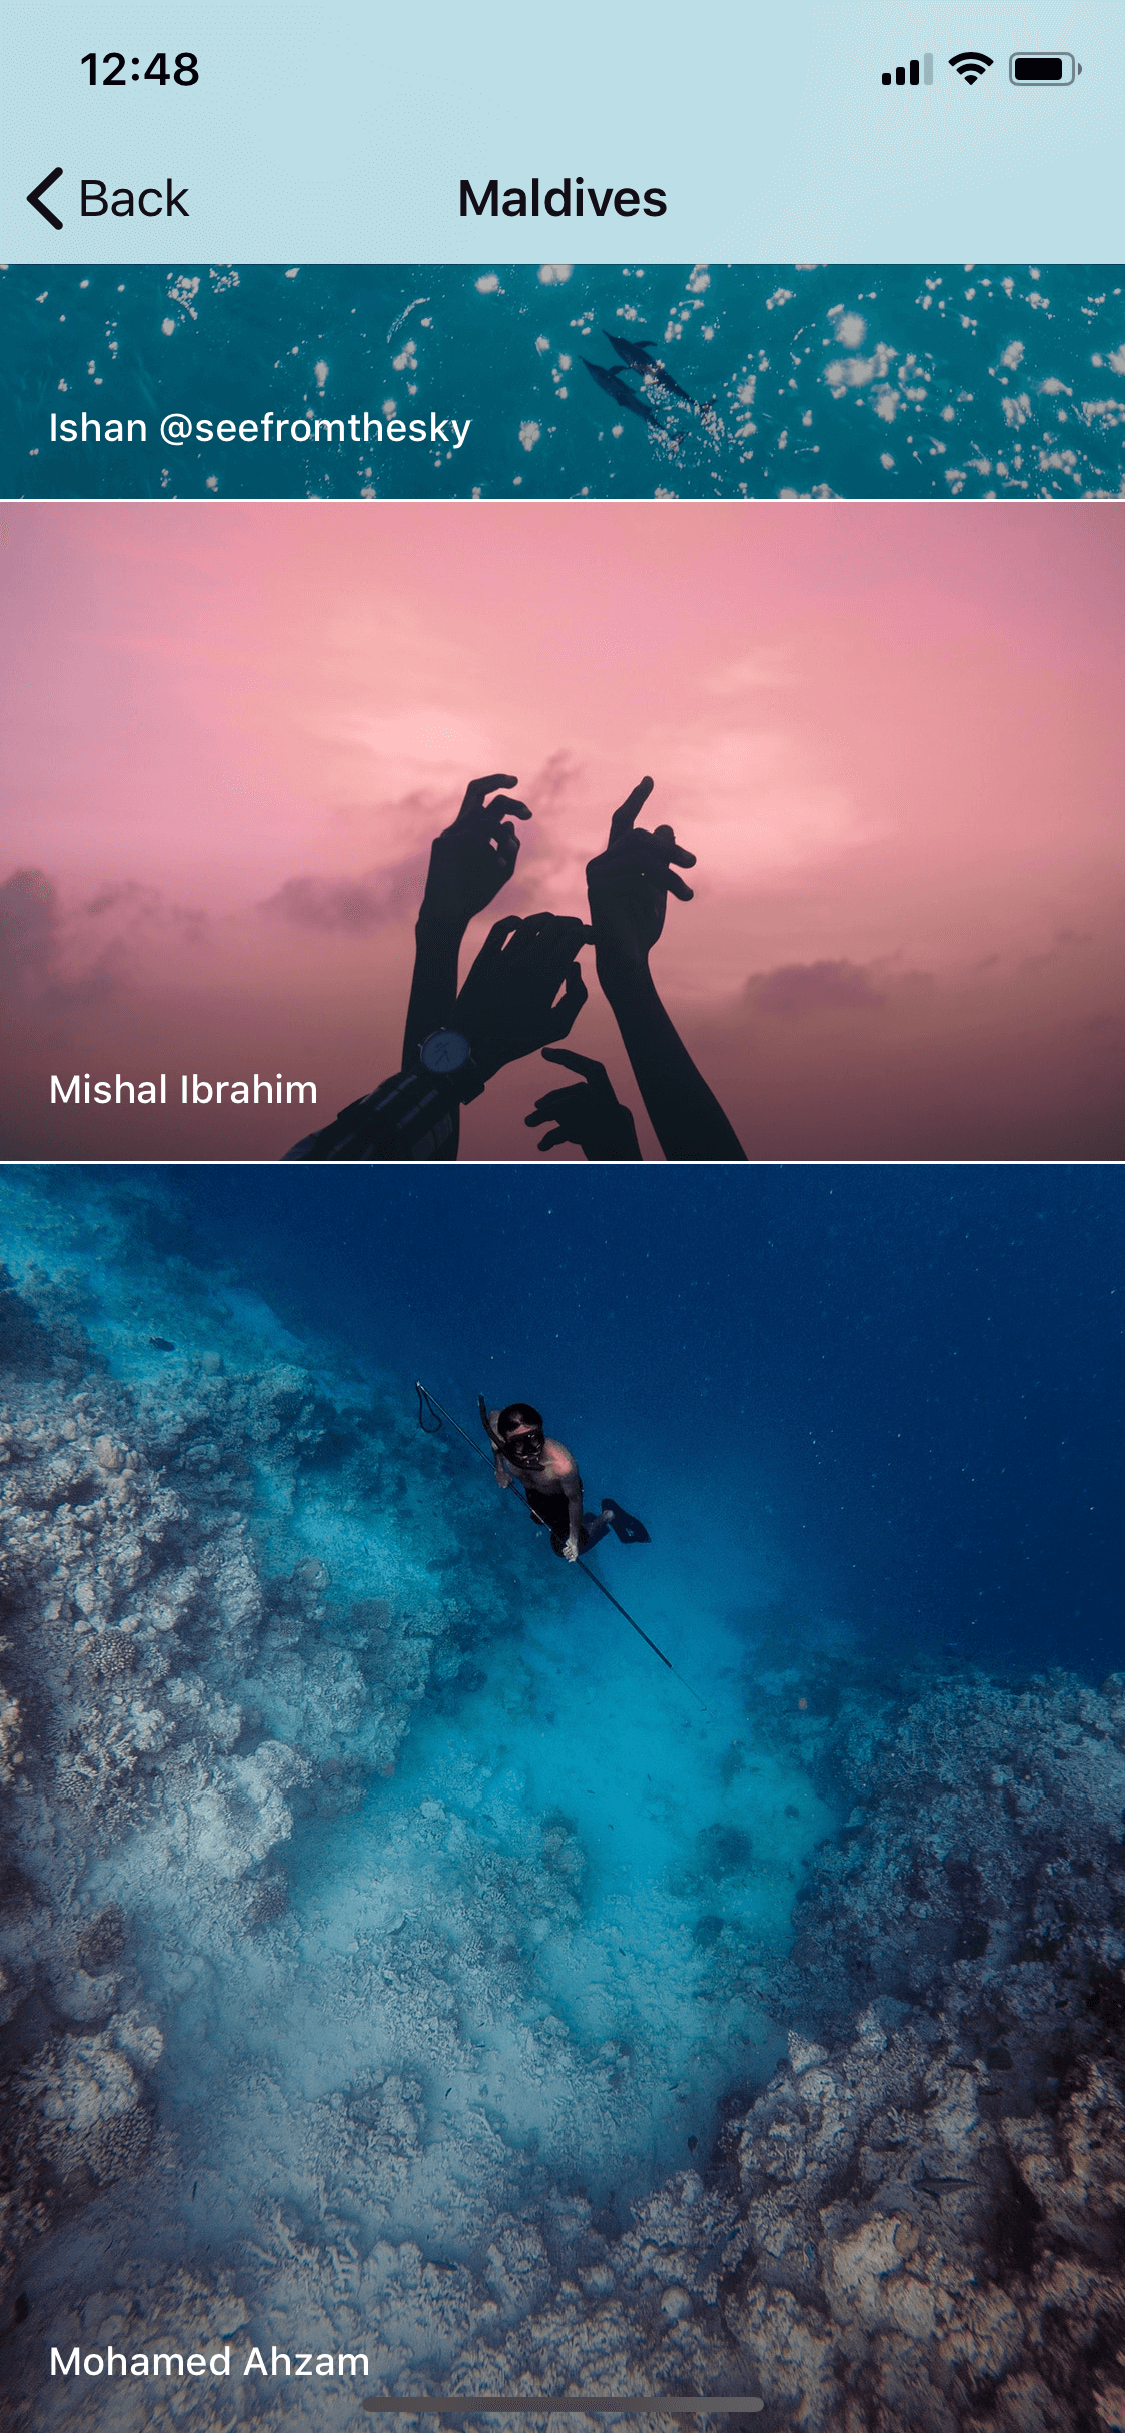Buttons: (8, 124, 219, 253)
